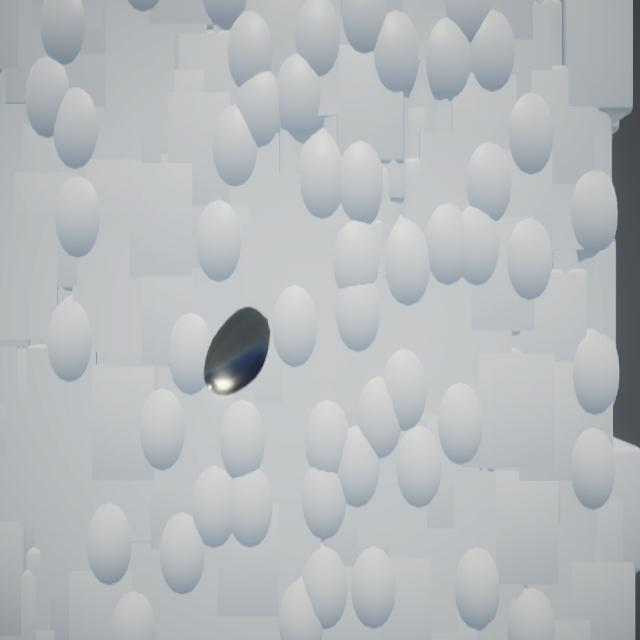top_spoon: (205, 308, 272, 397)
